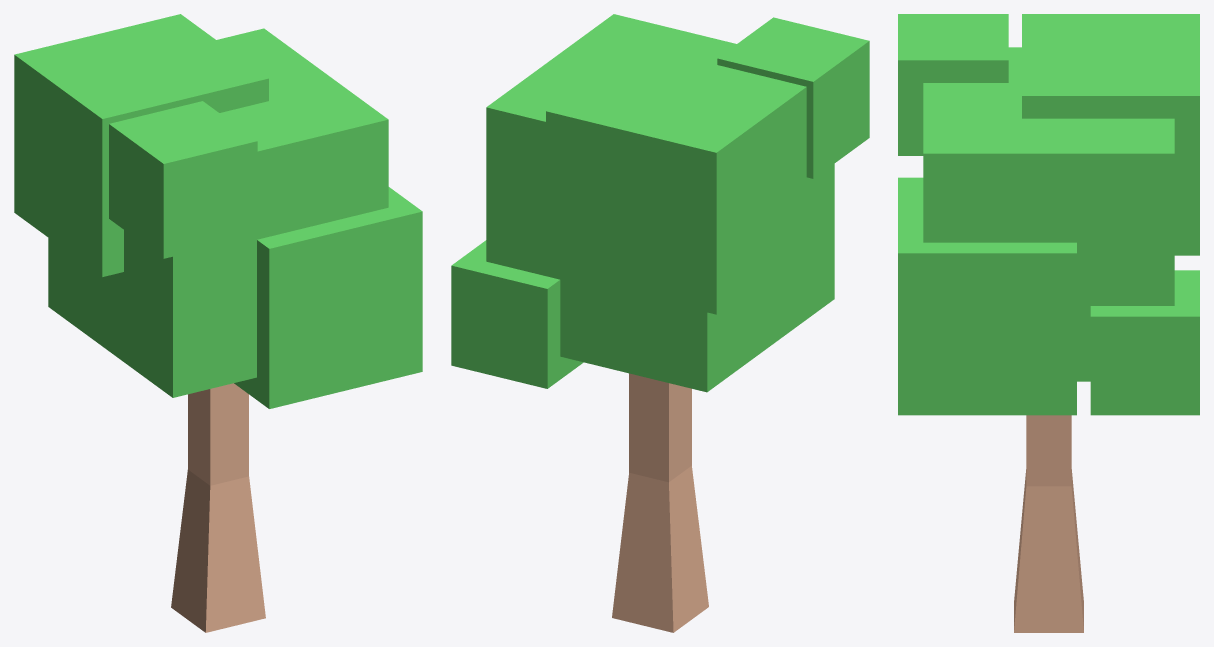
Rendered from n_tree_blocks.glb.
3 renders of one model, left to right at view 1: azimuth 30°, elevation 25°; view 2: azimuth 150°, elevation 25°; view 3: azimuth 270°, elevation 25°, orthographic. The views are drawn at different scales.
Parts seen in each view (by area): view 1: tree_blocks; view 2: tree_blocks; view 3: tree_blocks.
Boxes of the visible parts, box(x1,y1,x2,y2) form: tree_blocks: box(14, 14, 422, 632); tree_blocks: box(451, 14, 869, 632); tree_blocks: box(898, 14, 1199, 632).
Bounding box in the file's own units: 2.78 × 5.5 × 2.78.
